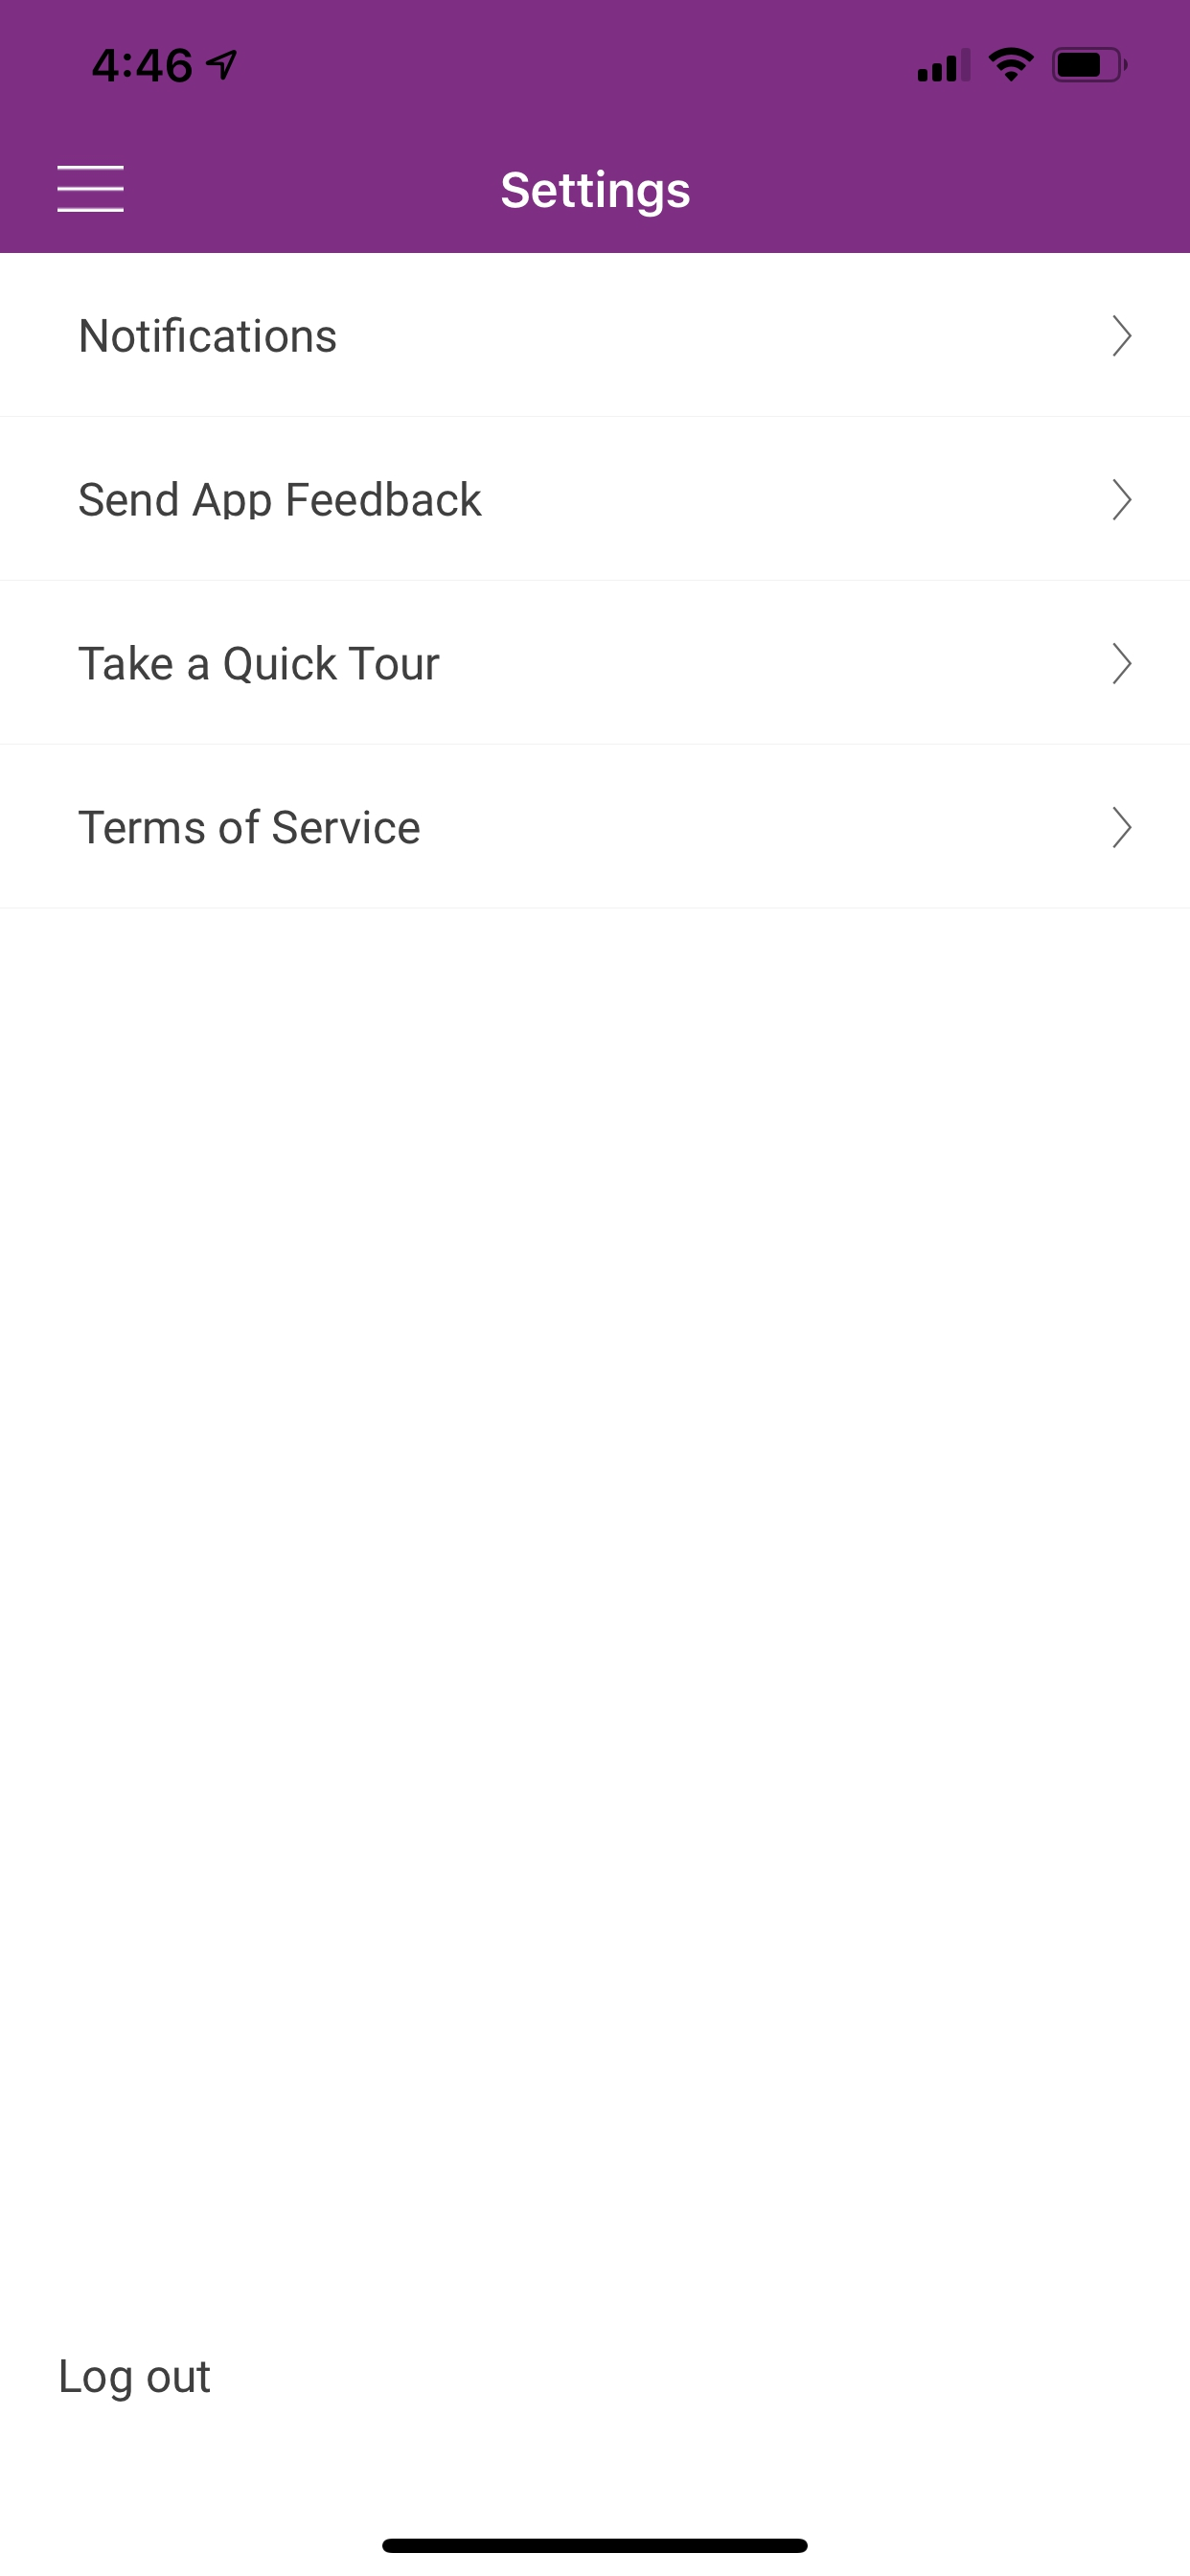Icon: (58, 164, 125, 214), (1111, 478, 1132, 521), (1111, 807, 1132, 848), (1111, 642, 1132, 683), (1111, 315, 1131, 356)
Image: (501, 169, 690, 220)
Text: (79, 481, 482, 519), (79, 646, 440, 683), (79, 808, 419, 844), (82, 315, 337, 353), (61, 2357, 210, 2402)
UpperTaskBar: (94, 48, 1128, 84)
